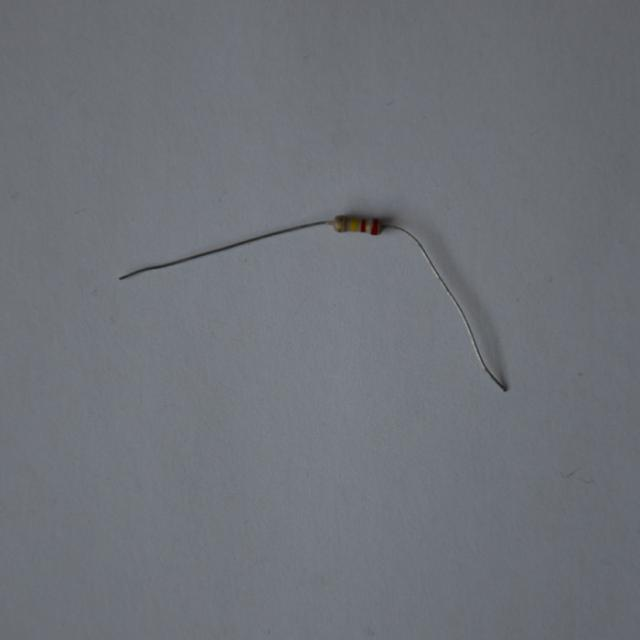gold: (337, 214, 344, 232)
red: (372, 219, 379, 235), (360, 219, 366, 232)
resistor: (326, 210, 396, 238)
yellow: (349, 217, 356, 231)
